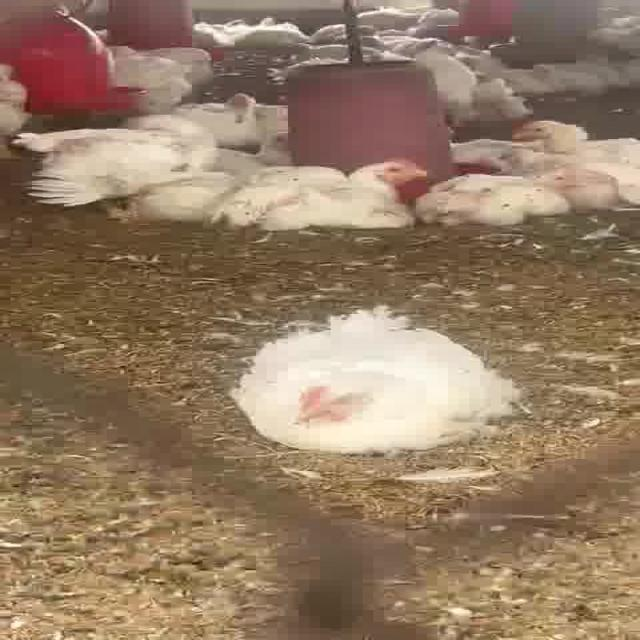AbNormal: (240, 308, 507, 452), (232, 157, 432, 230), (430, 168, 584, 225), (510, 120, 624, 160)
